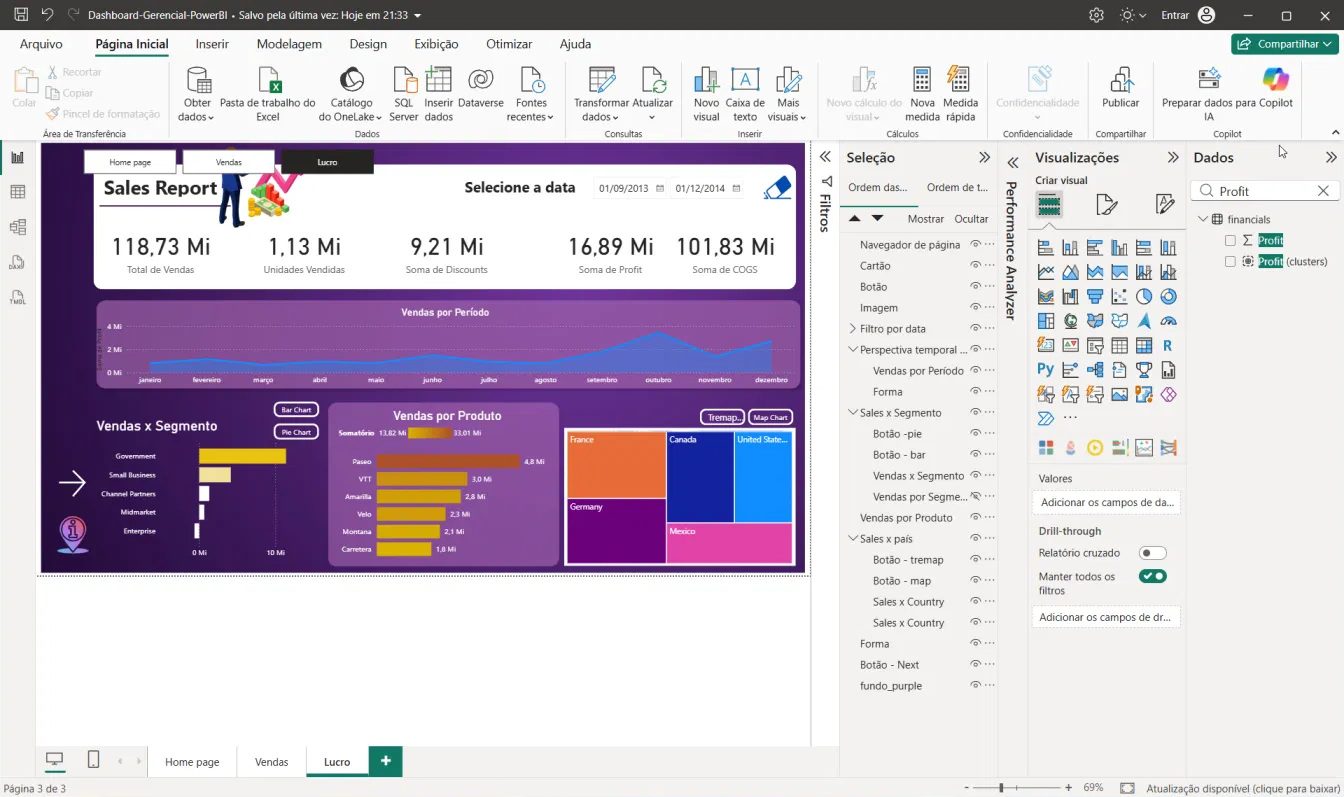

This screenshot's page, from the dashboard's own definition file:
{"tool":"powerbi","page":{"name":"Lucro","canvas":[1280,720],"ordinal":2},"visuals":[{"type":"image","title":"fundo_purple","box":[0,0,1280.3,720],"z":0},{"type":"shape","box":[95.8,41.1,1161.3,206.6],"z":0,"group":"g4"},{"type":"shape","box":[90.5,255.5,1181.8,163.7],"z":0,"group":"g3"},{"type":"map","title":"Sales x Country","fields":{"Category":["financials.Country"],"Size":["Sum(financials. Sales)"]},"box":[873.8,476.1,382,228.1],"z":0,"group":"g1"},{"type":"shape","box":[105.6,92.3,216.7,32.8],"z":1000,"group":"g4"},{"type":"areaChart","title":"Vendas por Período","fields":{"Category":["financials.Date.Variation.Hierarquia de datas.Trimestre","financials.Date.Variation.Hierarquia de datas.Mês"],"Y":["Sum(financials.Profit)"]},"box":[94.3,274.7,1163.2,139.7],"z":1000,"group":"g3"},{"type":"clusteredBarChart","title":"Vendas x Segmento","fields":{"Category":["financials.Segment"],"Y":["Sum(financials.Profit)"]},"box":[94.9,459.3,383.9,242.3],"z":1000,"group":"g2"},{"type":"treemap","title":"Sales x Country","fields":{"Group":["financials.Country"],"Values":["Sum(financials.Profit)"]},"box":[873.8,477.5,382,228.1],"z":1000,"group":"g1"},{"type":"actionButton","title":"Botão - Next","box":[32.4,539.2,58,56.3],"z":1000},{"type":"slicer","fields":{"Values":["financials.Date"]},"box":[909.9,50.5,272.2,55.6],"z":2000,"group":"g4"},{"type":"actionButton","title":"Botão - bar","box":[393.4,432.9,75.1,25.6],"z":2000,"group":"g2"},{"type":"shape","box":[482.9,433.4,382.2,271.3],"z":2000},{"type":"actionButton","title":"Botão - map","box":[1177.5,444.2,75.1,27.3],"z":2000,"group":"g1"},{"type":"textbox","box":[704.6,56.2,199.6,45.6],"z":3000,"group":"g4"},{"type":"group","id":"g1","title":"Sales x país","box":[873.8,444.2,382,261.4],"z":3000},{"type":"actionButton","title":"Botão - tremap","box":[1097.3,444.2,75.1,27.3],"z":3000,"group":"g1"},{"type":"actionButton","title":"Botão -pie","box":[393.2,469.1,74.8,26.6],"z":3000,"group":"g2"},{"type":"card","fields":{"Values":["Sum(financials.Units Sold)"]},"box":[338.3,130.3,211,105.5],"z":4000,"group":"g4"},{"type":"clusteredBarChart","title":"Vendas por Produto","fields":{"Category":["financials.Product"],"Y":["Sum(financials.Profit)"]},"box":[496.5,443.6,368.5,261.1],"z":4000},{"type":"textbox","box":[107,50.9,215.2,48.5],"z":5000,"group":"g4"},{"type":"group","id":"g2","title":"Sales x Segmento","box":[94.9,429.7,387.6,271.8],"z":5000},{"type":"actionButton","box":[1196.4,54.7,59.9,51.3],"z":6000,"group":"g4"},{"type":"group","id":"g3","title":"Perspectiva temporal das vendas","box":[90.5,255.5,1181.8,163.7],"z":6000},{"type":"group","id":"g4","title":"Filtro por data","box":[95.8,0,1161.3,247.7],"z":7000},{"type":"image","title":"clean","box":[1196.4,50.5,59.9,55.6],"z":8000,"group":"g4"},{"type":"image","box":[26.1,615.8,71.5,72.9],"z":8000},{"type":"card","fields":{"Values":["Sum(financials.Discounts)"]},"box":[574.9,130.3,211,105.5],"z":9000,"group":"g4"},{"type":"actionButton","box":[31.6,615.8,63.2,72.9],"z":9000},{"type":"card","fields":{"Values":["Sum(financials.Profit)"]},"box":[844.2,130.2,211,105.5],"z":10000},{"type":"card","fields":{"Values":["Sum(financials.COGS)"]},"box":[1033.9,130.3,211,105.5],"z":10000,"group":"g4"},{"type":"pageNavigator","box":[80,16,480,40],"z":11000},{"type":"card","fields":{"Values":["Sum(financials. Sales)"]},"box":[101.7,130.3,211,105.5],"z":11000,"group":"g4"},{"type":"image","box":[265.1,0,252.9,155.7],"z":12000,"group":"g4"}]}

Visuals, with their boxes on the page's 1280x720 design canvas (x1, y1, x2, y2). These are canvas units, not pixel positions in the 1344x797 screenshot, which may show the page scaled, cropped or inside an application window:
"fundo_purple" image: {"left": 0, "top": 0, "right": 1280, "bottom": 720}
shape: {"left": 96, "top": 41, "right": 1257, "bottom": 248}
shape: {"left": 90, "top": 256, "right": 1272, "bottom": 419}
"Sales x Country" map: {"left": 874, "top": 476, "right": 1256, "bottom": 704}
shape: {"left": 106, "top": 92, "right": 322, "bottom": 125}
"Vendas por Período" areaChart: {"left": 94, "top": 275, "right": 1258, "bottom": 414}
"Vendas x Segmento" clusteredBarChart: {"left": 95, "top": 459, "right": 479, "bottom": 702}
"Sales x Country" treemap: {"left": 874, "top": 478, "right": 1256, "bottom": 706}
"Botão - Next" actionButton: {"left": 32, "top": 539, "right": 90, "bottom": 596}
slicer - financials.Date: {"left": 910, "top": 50, "right": 1182, "bottom": 106}
"Botão - bar" actionButton: {"left": 393, "top": 433, "right": 468, "bottom": 458}
shape: {"left": 483, "top": 433, "right": 865, "bottom": 705}
"Botão - map" actionButton: {"left": 1178, "top": 444, "right": 1253, "bottom": 472}
textbox: {"left": 705, "top": 56, "right": 904, "bottom": 102}
"Sales x país" group: {"left": 874, "top": 444, "right": 1256, "bottom": 706}
"Botão - tremap" actionButton: {"left": 1097, "top": 444, "right": 1172, "bottom": 472}
"Botão -pie" actionButton: {"left": 393, "top": 469, "right": 468, "bottom": 496}
card - Sum(financials.Units Sold): {"left": 338, "top": 130, "right": 549, "bottom": 236}
"Vendas por Produto" clusteredBarChart: {"left": 496, "top": 444, "right": 865, "bottom": 705}
textbox: {"left": 107, "top": 51, "right": 322, "bottom": 99}
"Sales x Segmento" group: {"left": 95, "top": 430, "right": 482, "bottom": 702}
actionButton: {"left": 1196, "top": 55, "right": 1256, "bottom": 106}
"Perspectiva temporal das vendas" group: {"left": 90, "top": 256, "right": 1272, "bottom": 419}
"Filtro por data" group: {"left": 96, "top": 0, "right": 1257, "bottom": 248}
"clean" image: {"left": 1196, "top": 50, "right": 1256, "bottom": 106}
image: {"left": 26, "top": 616, "right": 98, "bottom": 689}
card - Sum(financials.Discounts): {"left": 575, "top": 130, "right": 786, "bottom": 236}
actionButton: {"left": 32, "top": 616, "right": 95, "bottom": 689}
card - Sum(financials.Profit): {"left": 844, "top": 130, "right": 1055, "bottom": 236}
card - Sum(financials.COGS): {"left": 1034, "top": 130, "right": 1245, "bottom": 236}
pageNavigator: {"left": 80, "top": 16, "right": 560, "bottom": 56}
card - Sum(financials. Sales): {"left": 102, "top": 130, "right": 313, "bottom": 236}
image: {"left": 265, "top": 0, "right": 518, "bottom": 156}
